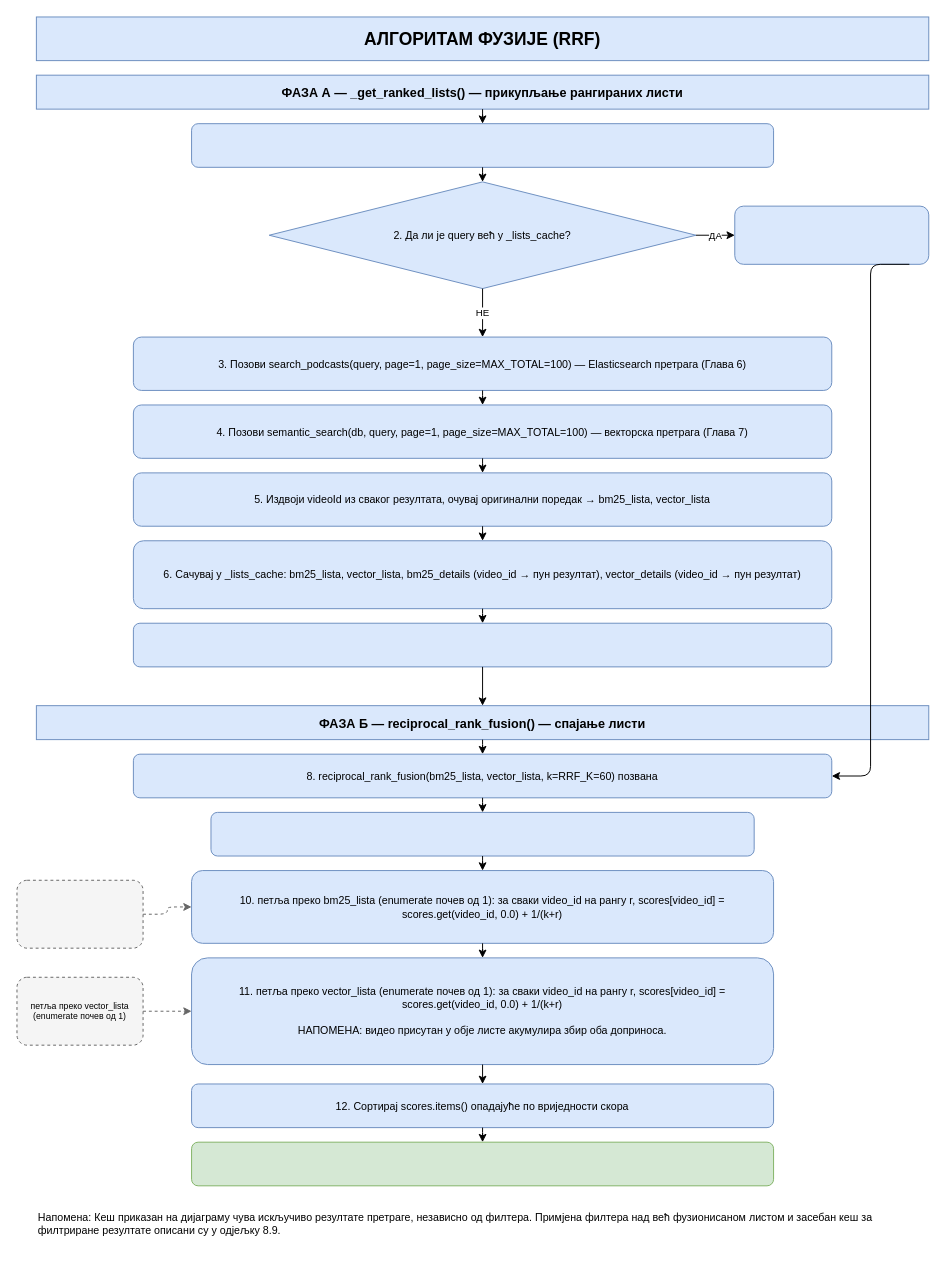
This 946x1280 diagram has some shape labels left out. The box of each missing label's shape, as (x1, y1, x2, y2) in pixels:
1. _get_ranked_lists(db, query) позвана: (191, 123, 774, 167)
13. Врати рангирану листу (video_id, скор) парова: (191, 1141, 774, 1186)
7. Врати bm25_lista, vector_lista: (132, 622, 832, 667)
9. Иницијализуј празан рјечник: scores = {}: (210, 811, 754, 856)
Врати кеширане bm25_lista и vector_lista: (734, 205, 929, 264)
петља преко bm25_lista (enumerate почев од 1): (16, 879, 143, 948)
